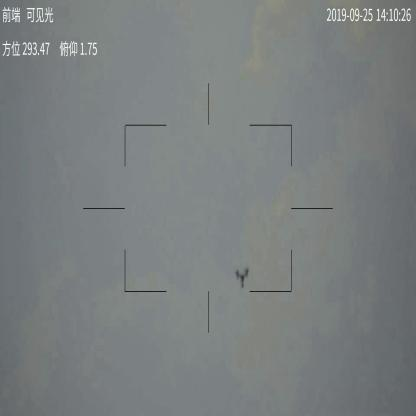uav: (233, 266, 252, 288)
